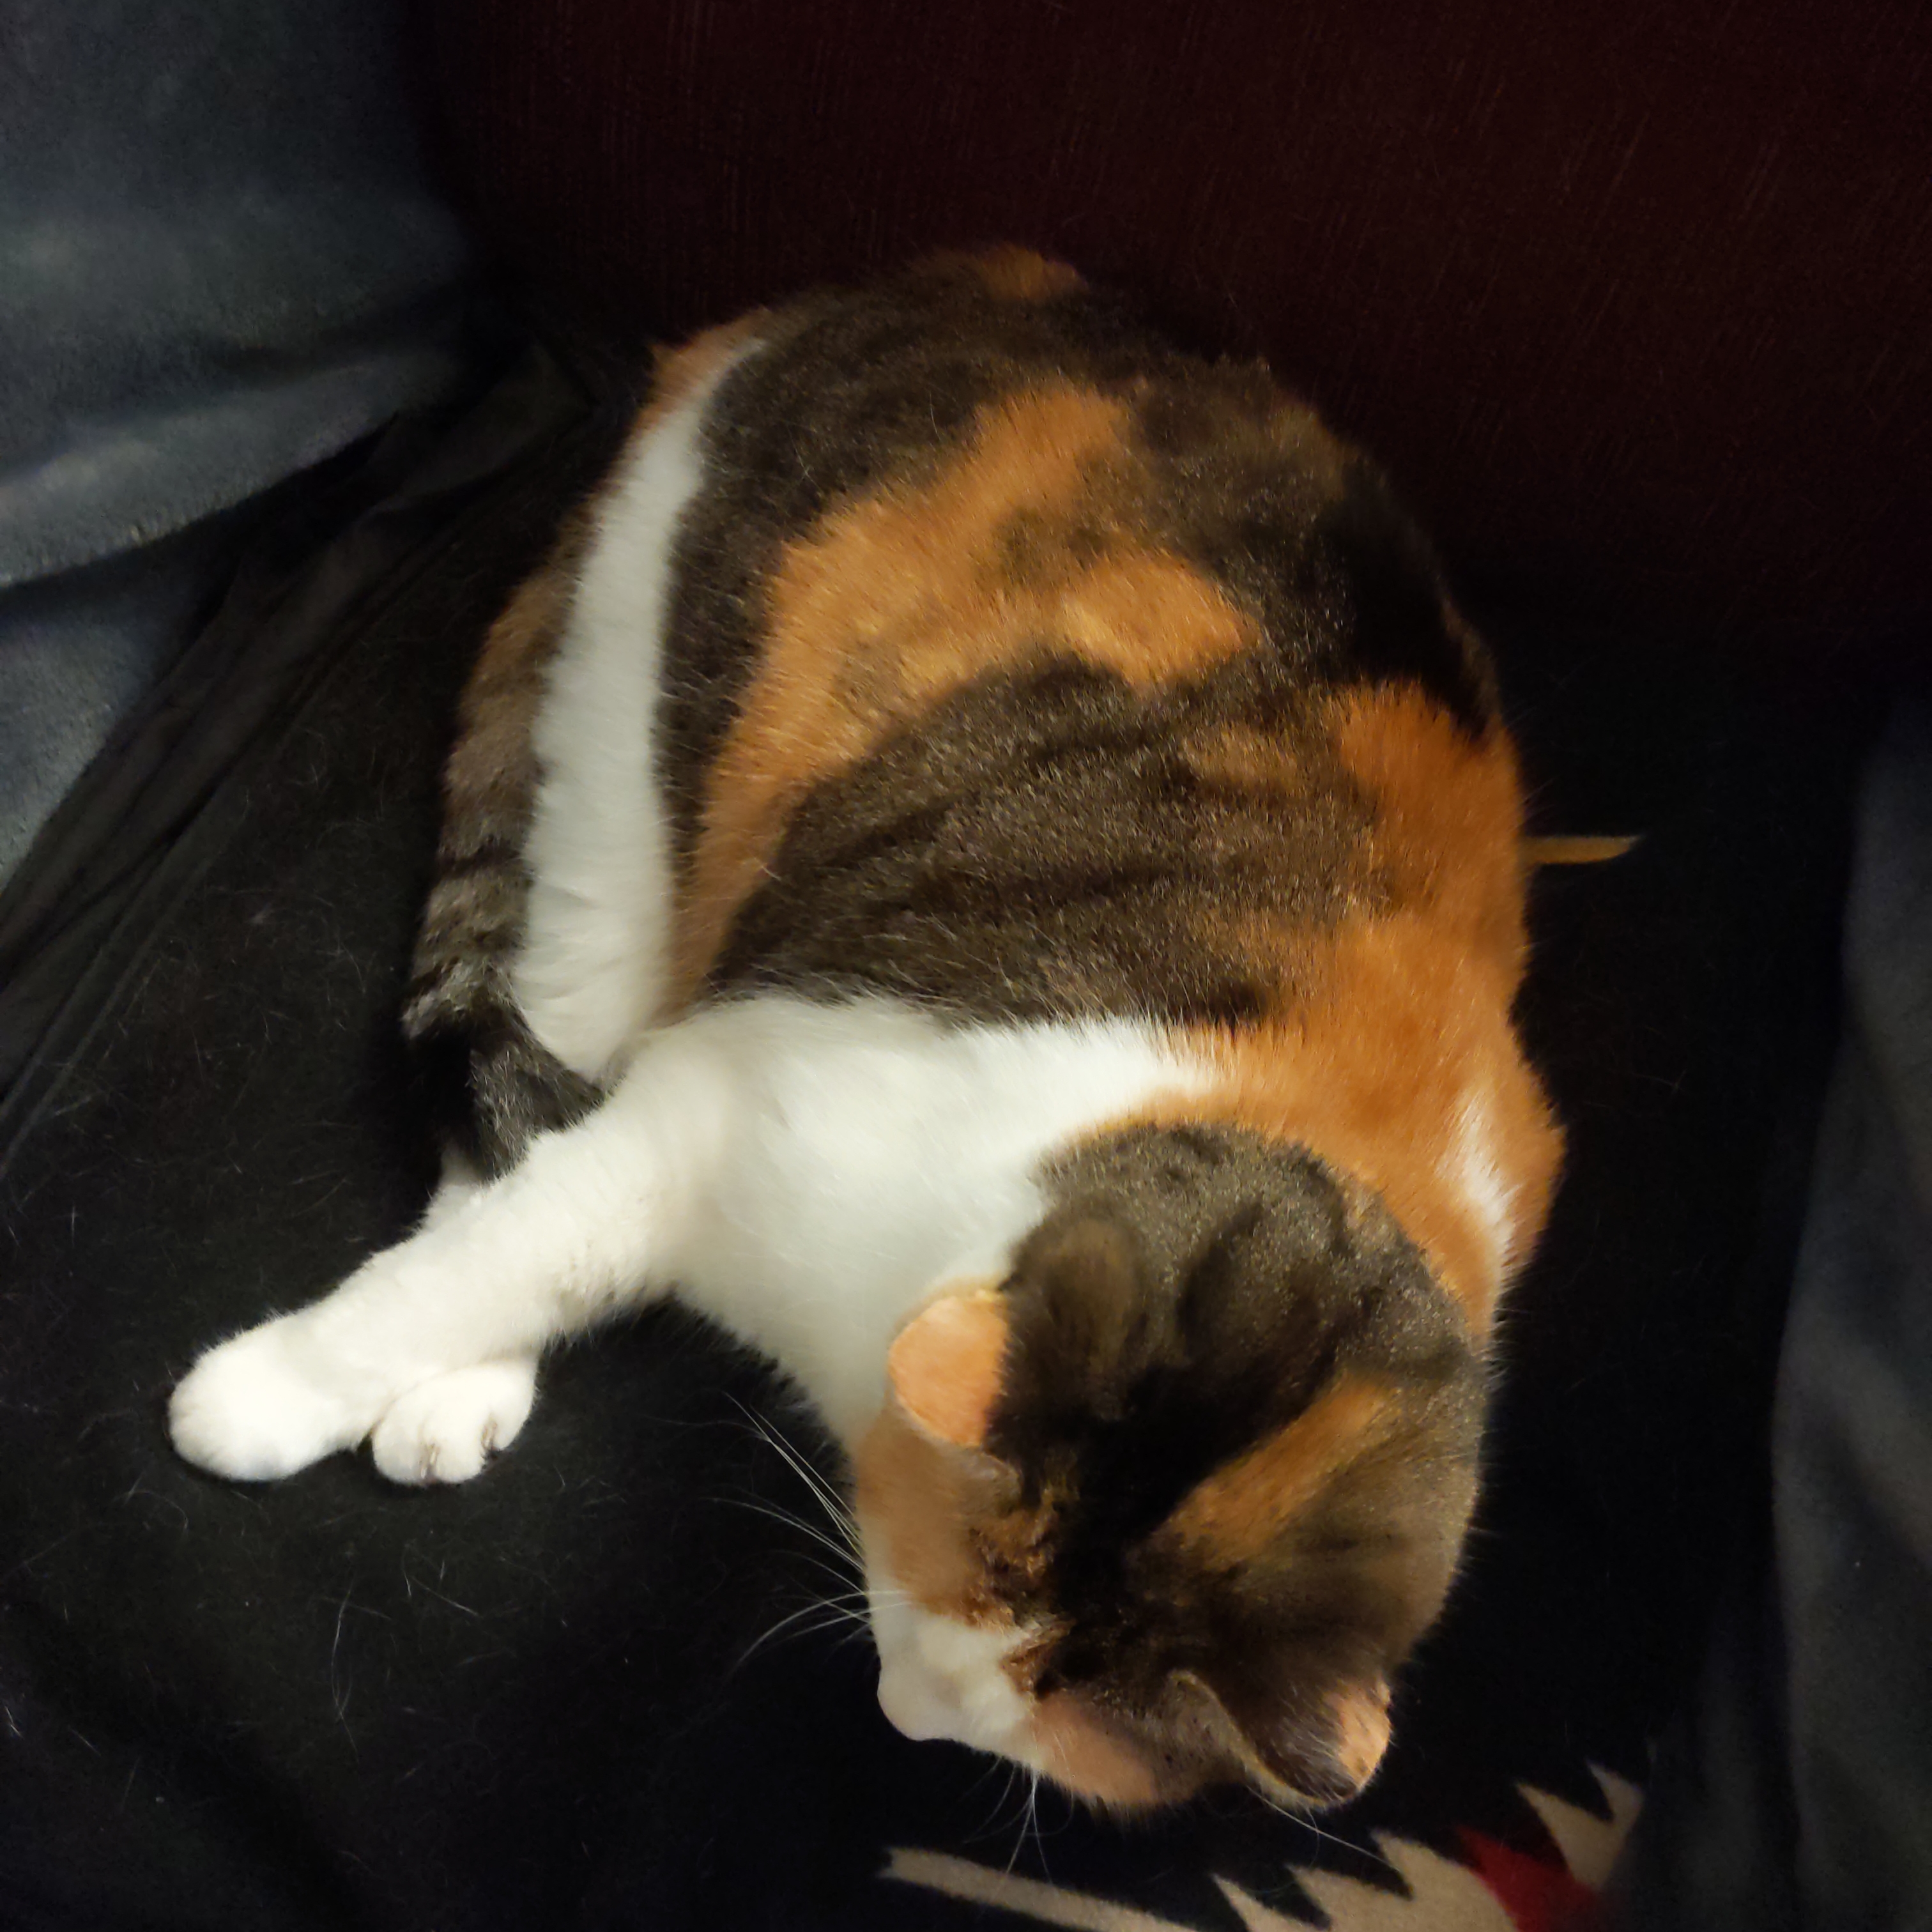Calico: (166, 244, 1568, 1810)
